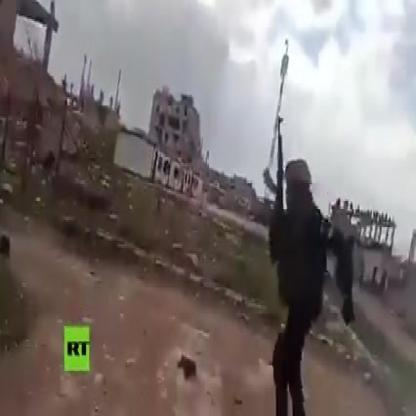Gun: (265, 111, 288, 241)
